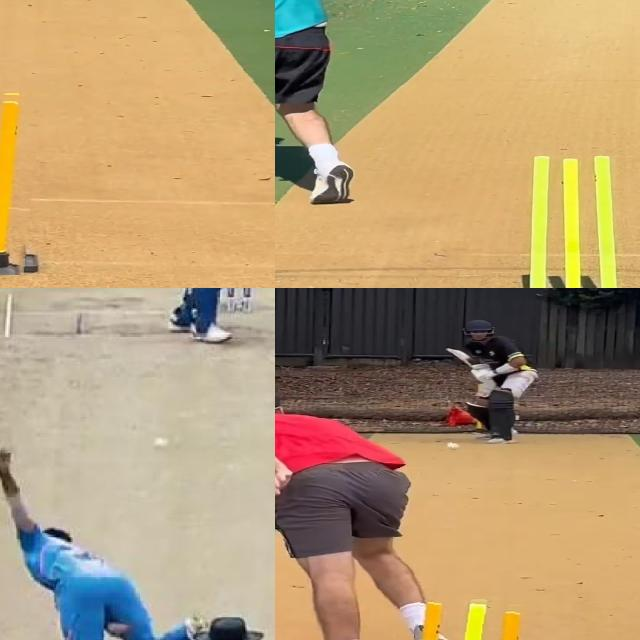Cricket ball: (154, 437, 172, 452), (444, 441, 460, 450)
Stumps: (0, 87, 41, 275), (414, 593, 535, 640)
